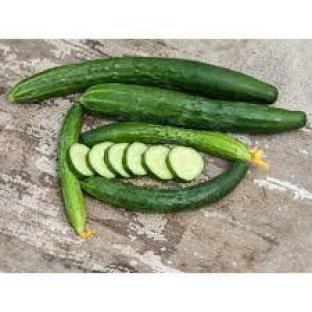Cucumber: (9, 57, 277, 103), (80, 84, 306, 133), (81, 161, 248, 212), (80, 123, 260, 165), (59, 103, 91, 237), (167, 146, 203, 181), (143, 146, 173, 180), (88, 142, 115, 178), (104, 143, 130, 177), (124, 142, 148, 176), (68, 143, 92, 177)
